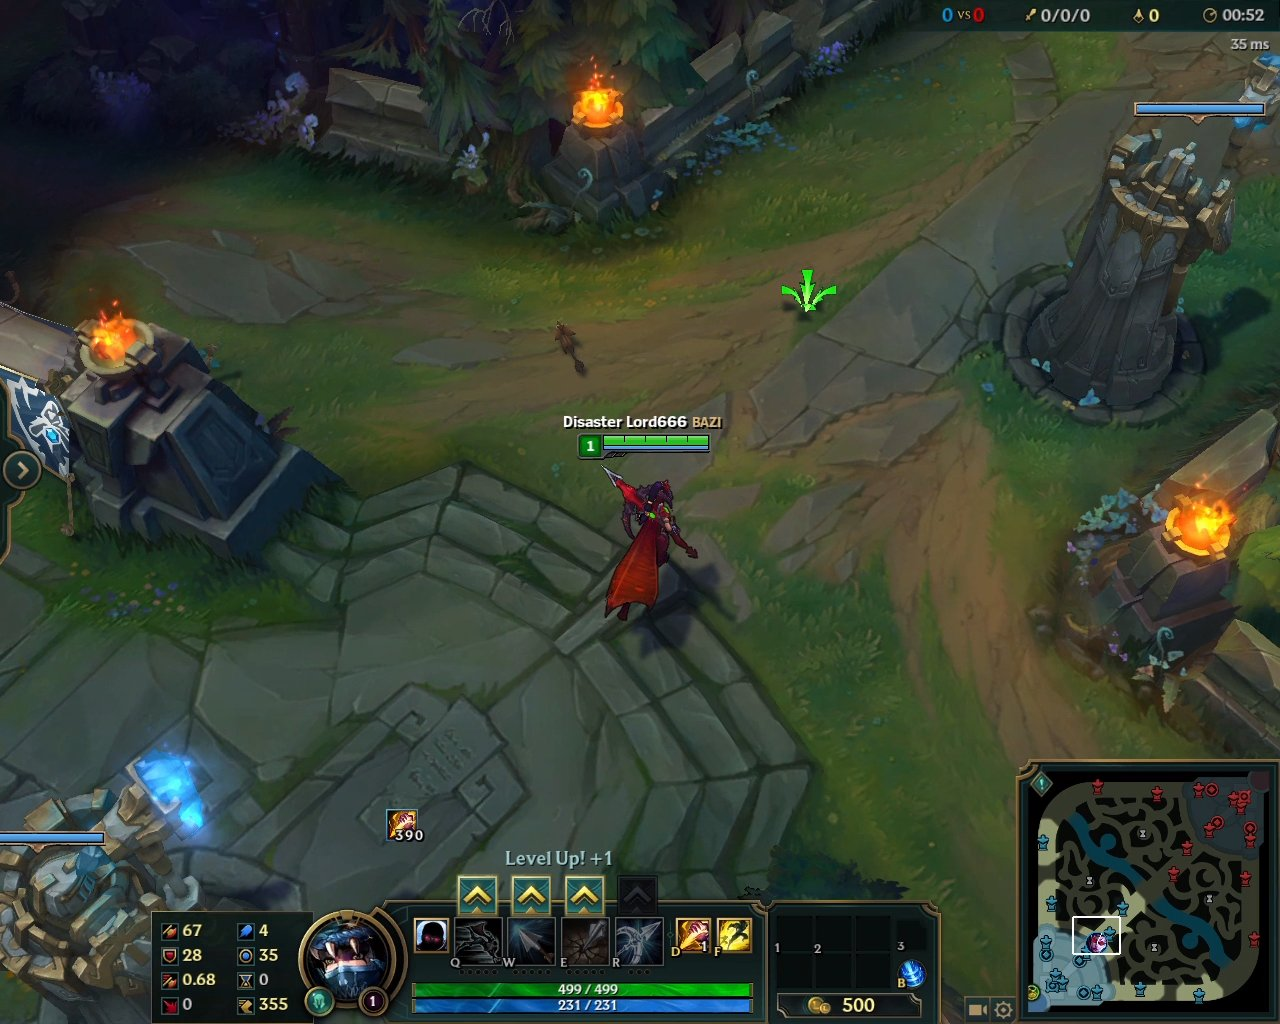Vayne: (598, 466, 705, 633)
